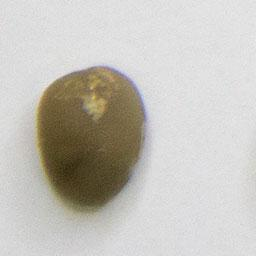premium: (32, 61, 150, 211)
